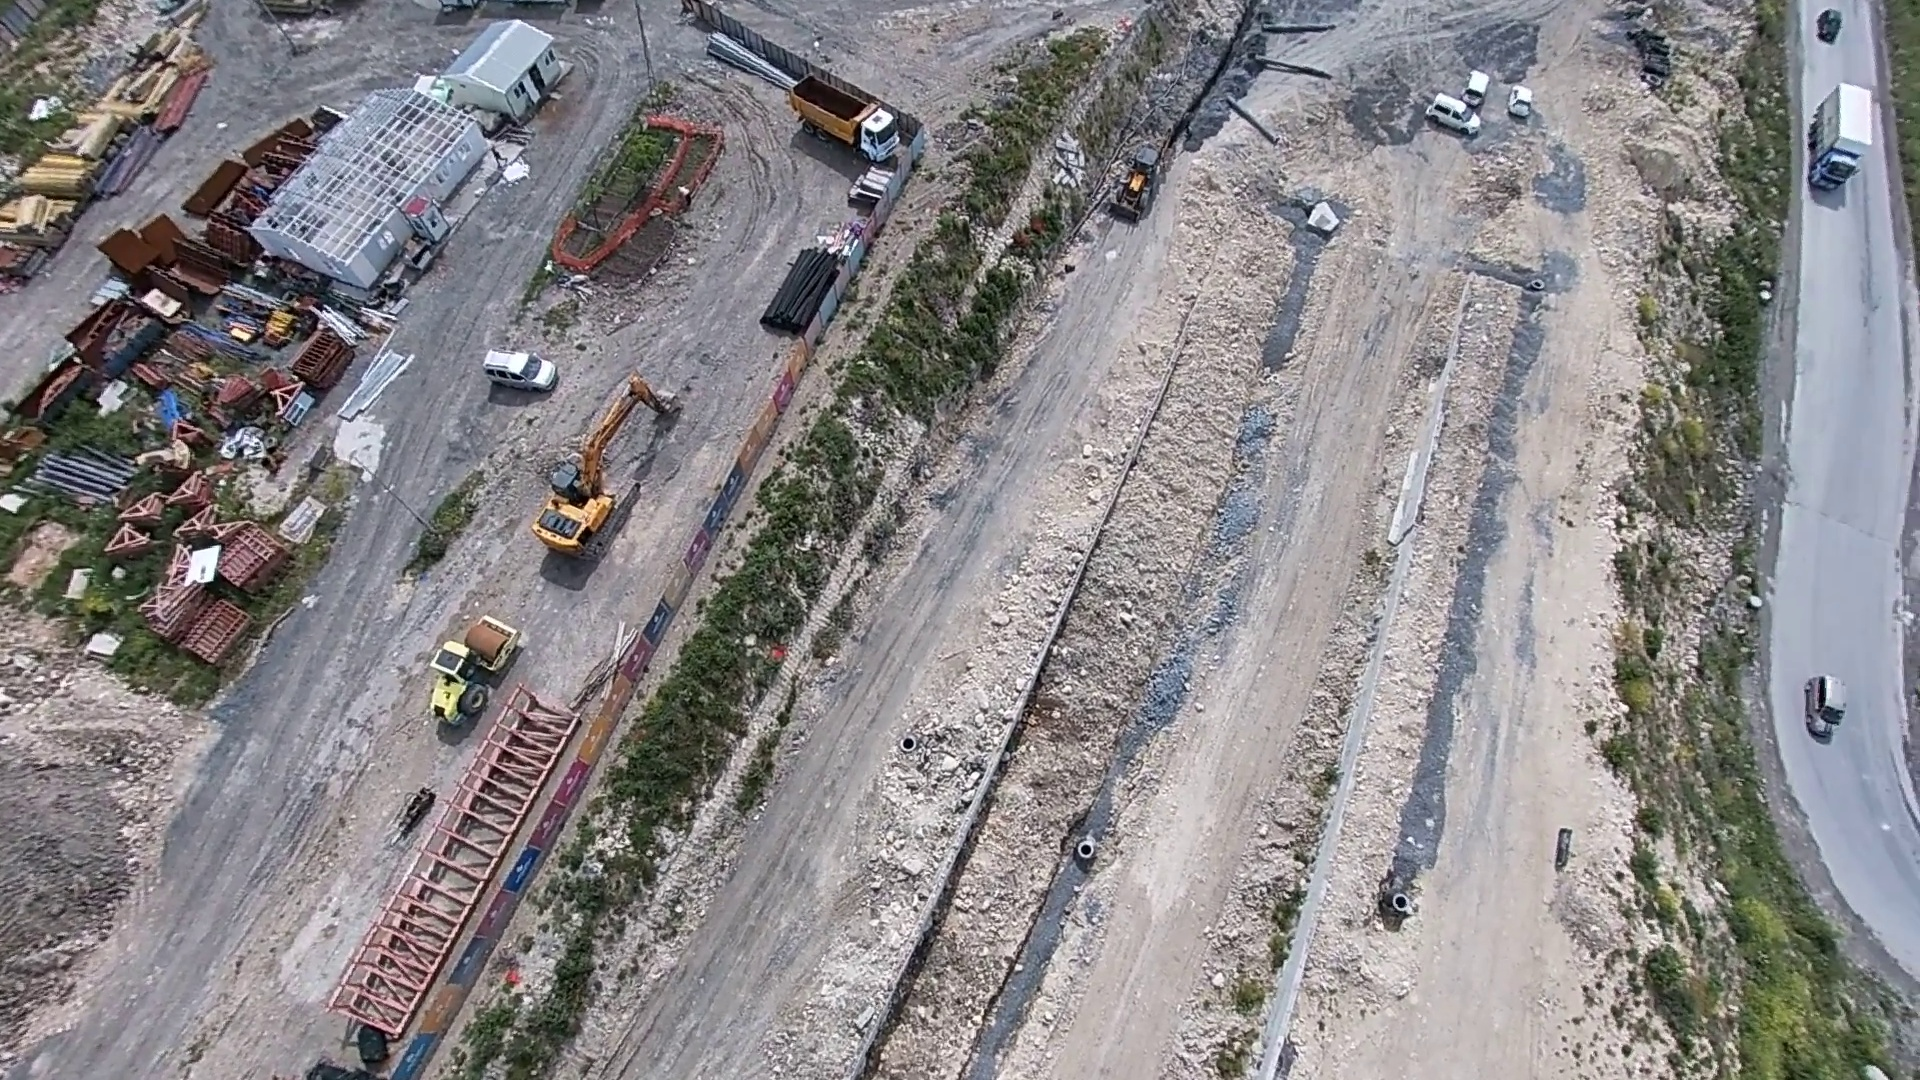arac: (526, 367, 684, 566), (779, 69, 915, 165), (425, 615, 524, 735), (1801, 82, 1875, 196), (1106, 138, 1171, 227), (479, 339, 563, 394), (1795, 671, 1850, 748), (1419, 90, 1486, 140), (1460, 66, 1509, 107), (1813, 8, 1863, 47), (1501, 82, 1545, 115)
